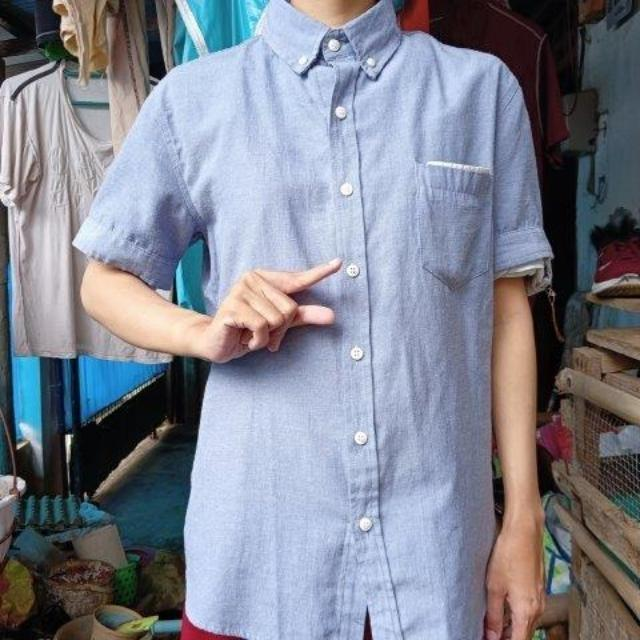R: (206, 252, 352, 366)
